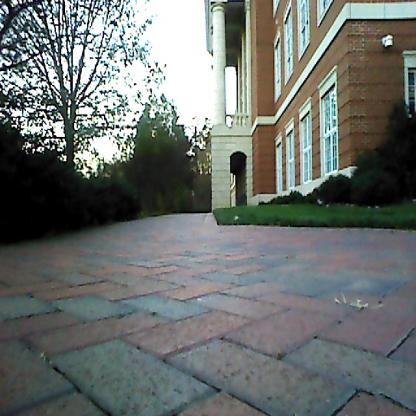Edge: (202, 205, 416, 251), (0, 206, 165, 259)
Sidewalk: (0, 214, 416, 416)
